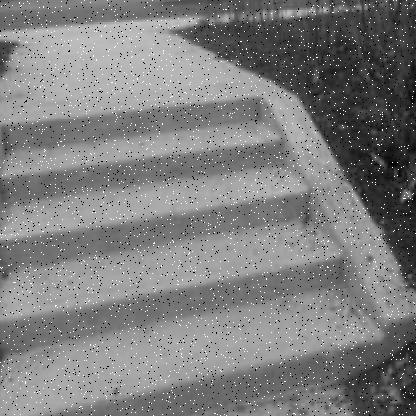stair_up: (3, 121, 368, 389)
